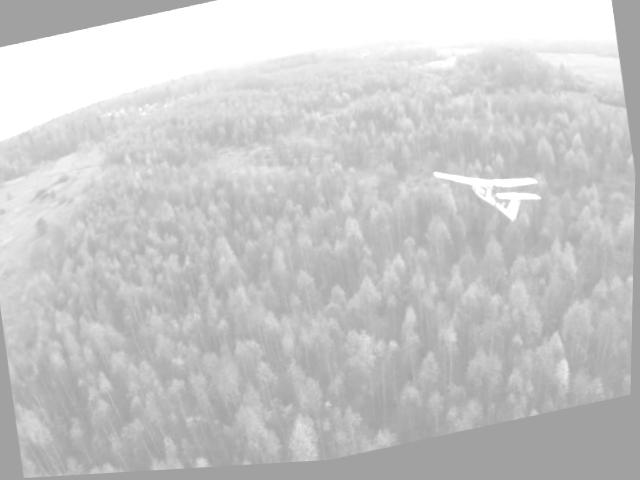hedef: (427, 152, 550, 252)
